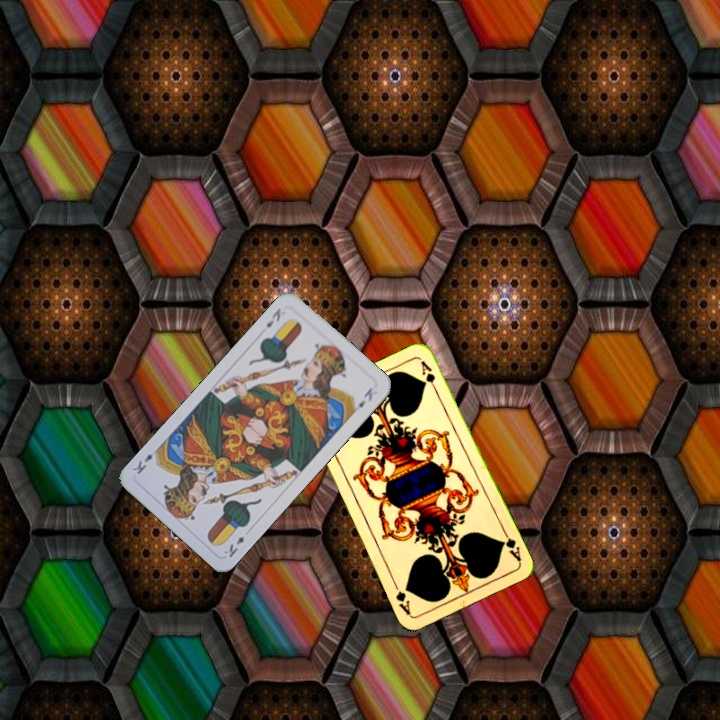EK: (220, 532, 247, 560), (262, 304, 283, 330)
GA: (497, 526, 524, 564)
